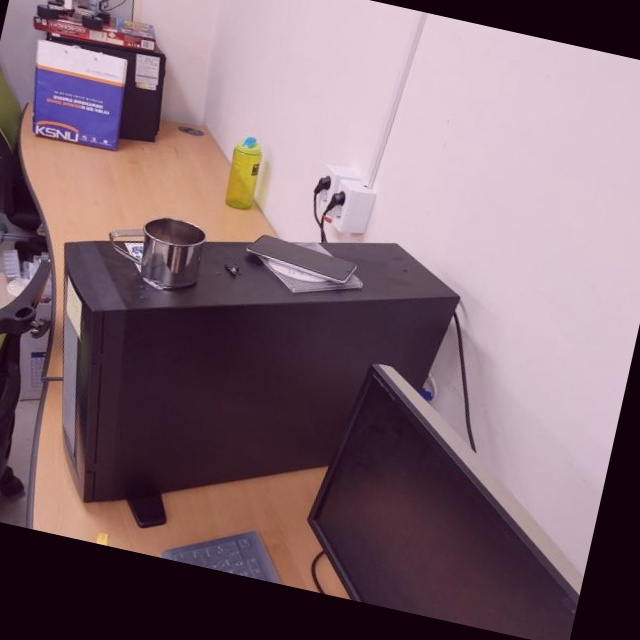cup: (99, 204, 212, 300)
phone: (238, 227, 361, 290)
